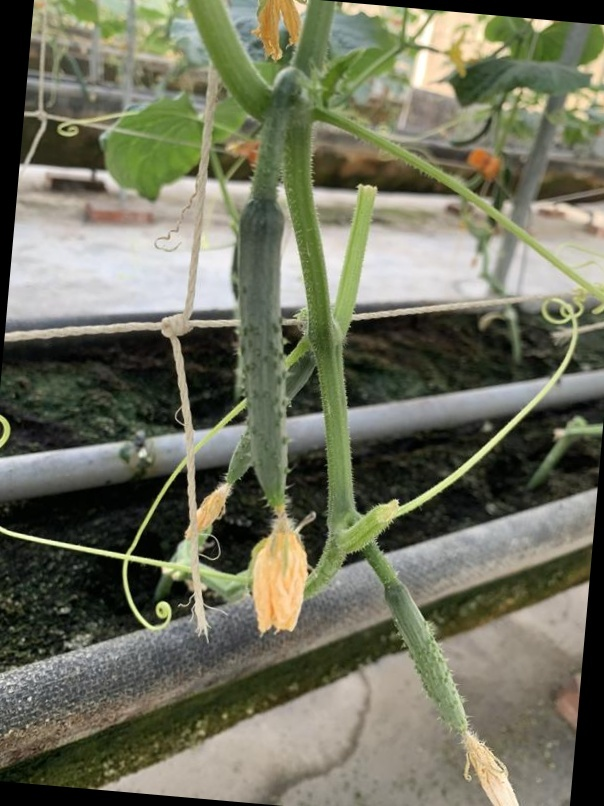bear: (359, 574, 597, 806)
growth: (221, 185, 311, 635)
